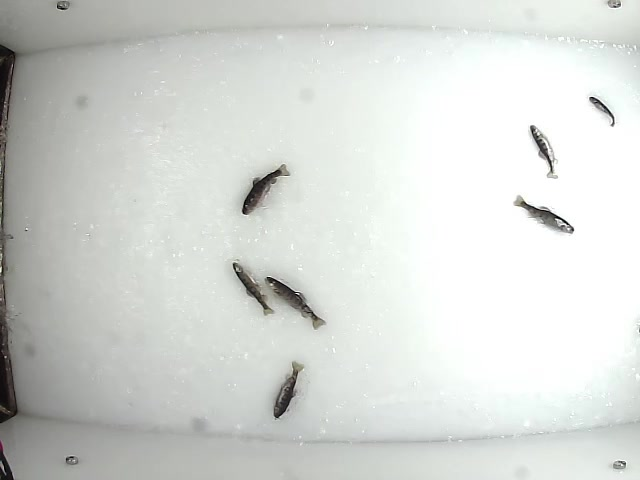fish: (264, 275, 326, 331), (240, 163, 291, 218), (511, 195, 576, 235), (233, 262, 274, 319), (271, 360, 306, 419), (527, 124, 560, 181), (587, 94, 616, 129)
